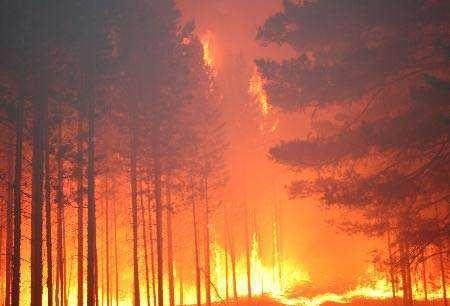fire: (19, 244, 445, 303), (186, 24, 286, 126)
